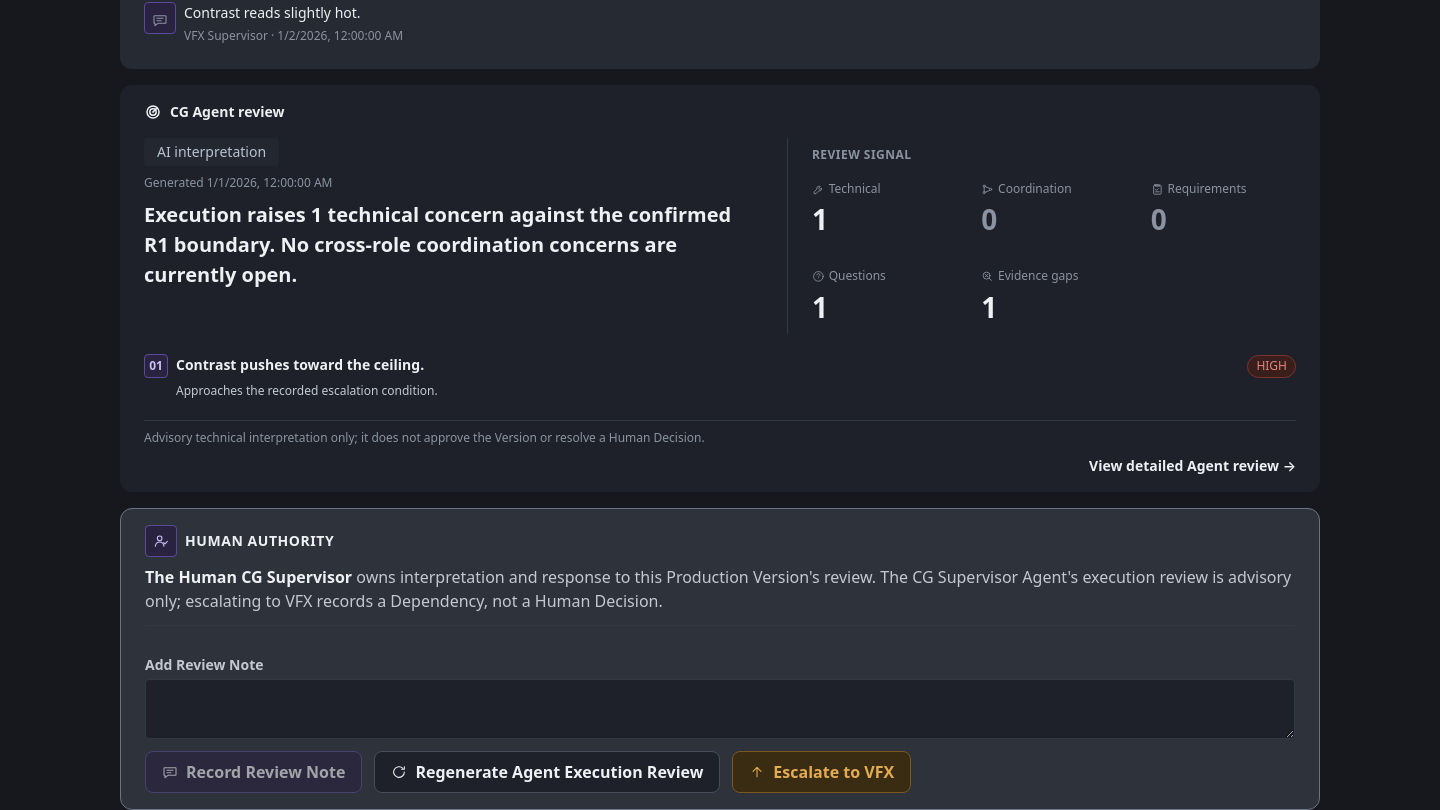
Test: VersionReviewPage › shows a structured real-state Agent Review takeaway (technical/coordination counts, not the raw executive_summary sentence), counts, and a detailed-review discl
(page scrolled)
Expected: the text "Execution raises 1 technical concern against the confirmed R1 boundary. No cross-role coordination concerns are currentl" is shown, [144, 201, 731, 288]
Expected: the 1st text "1" is shown, [812, 200, 828, 238]
Step 1. Click the text "View detailed Agent review →" → (1192, 466), box [1089, 455, 1296, 476]
(page scrolled)
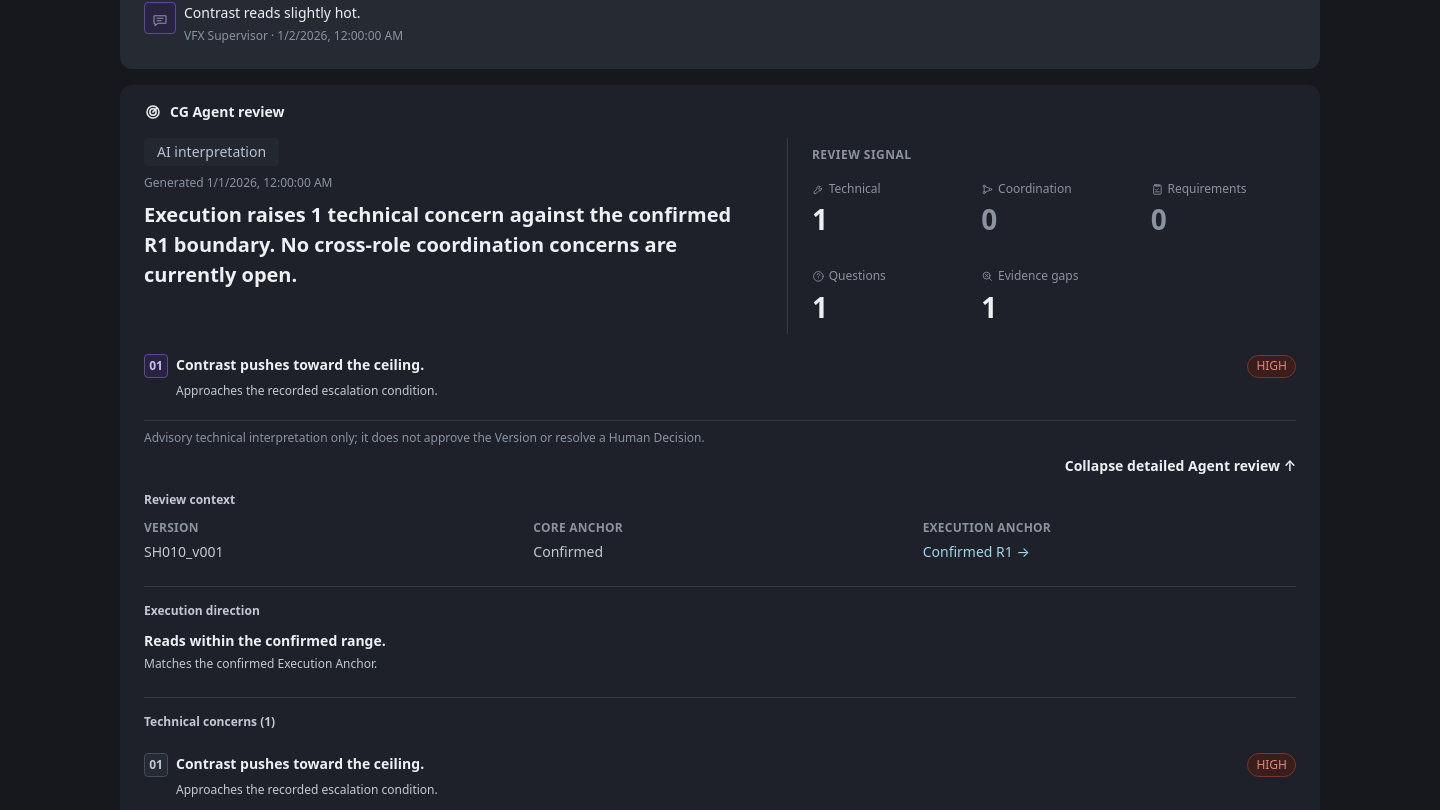
Result: the text "Reads within the confirmed range." is shown at [144, 631, 386, 650]
